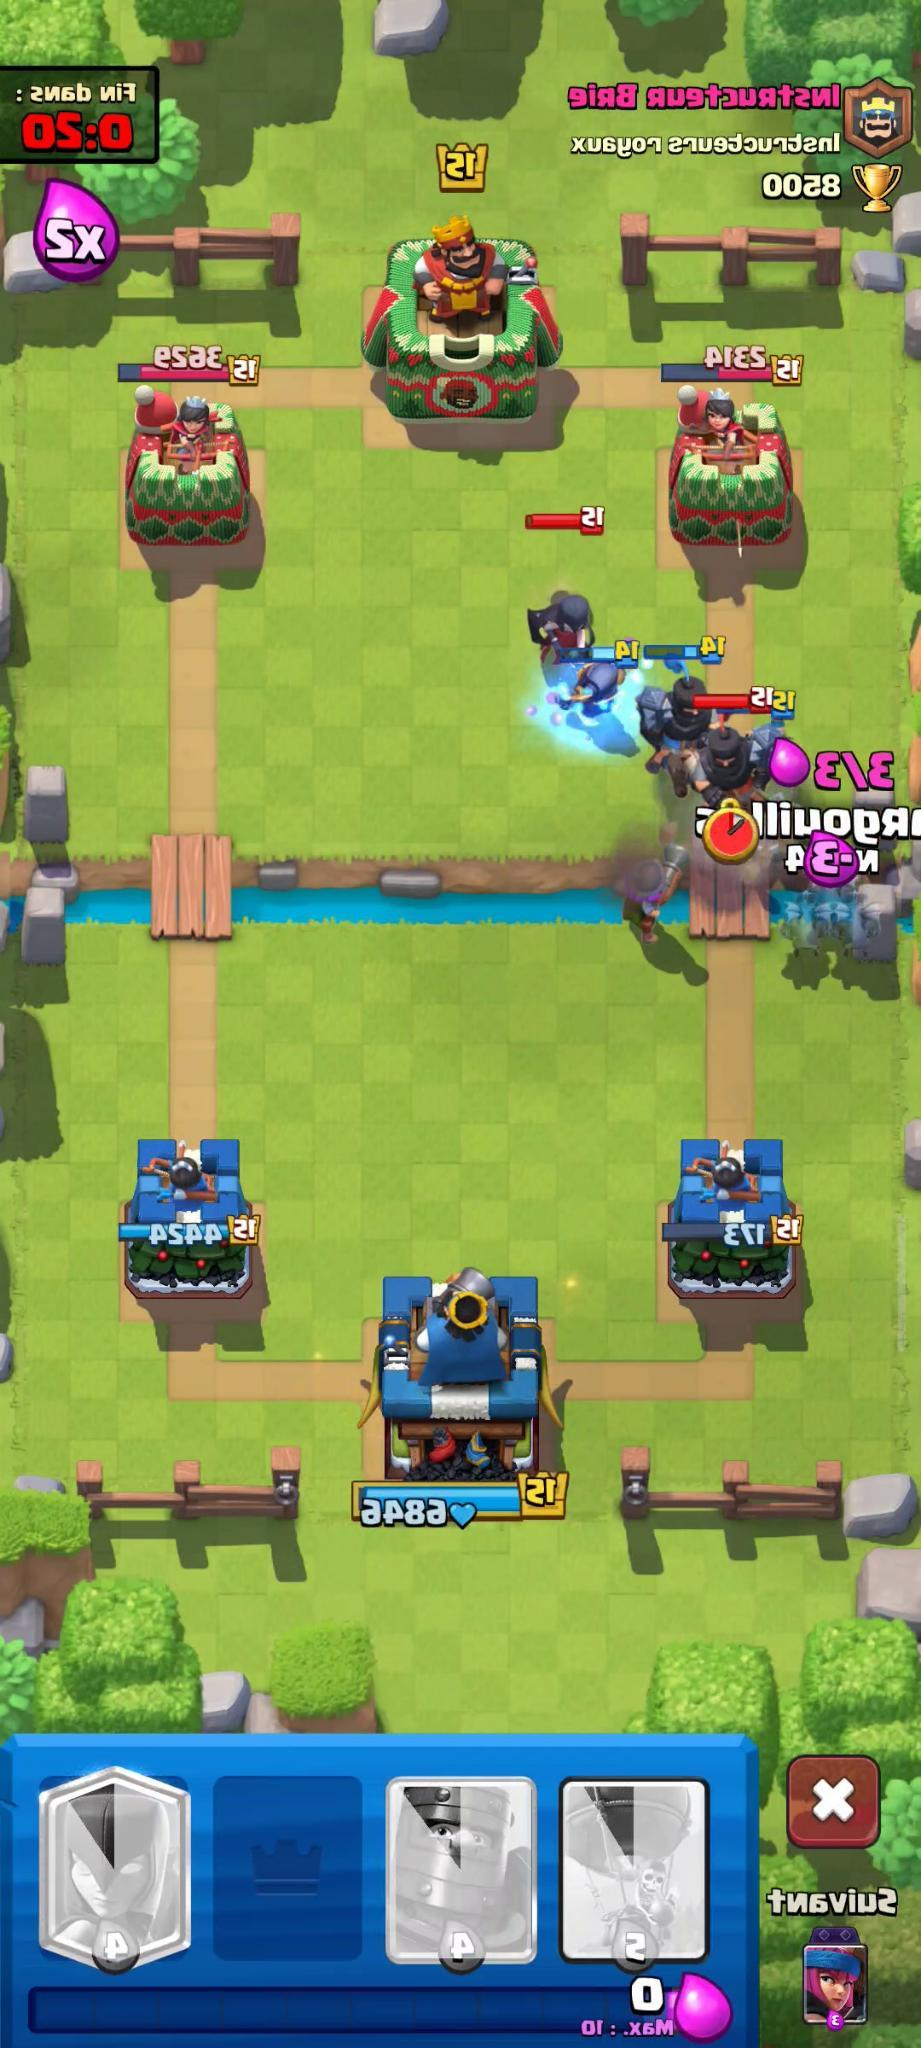enemy_dark_prince: (682, 683, 784, 828)
enemy_night_witch: (520, 507, 606, 652)
player_dark_prince: (631, 615, 732, 797)
player_mini_pekka: (547, 647, 633, 728)
